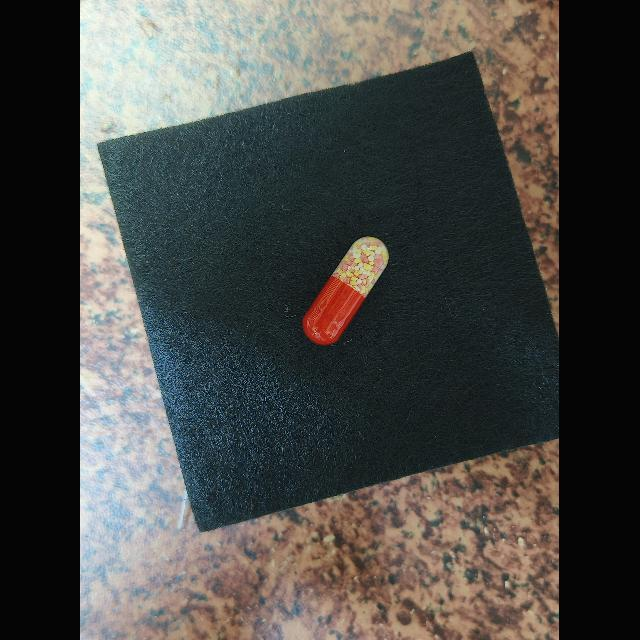Intact Capsule: (303, 237, 389, 345)
